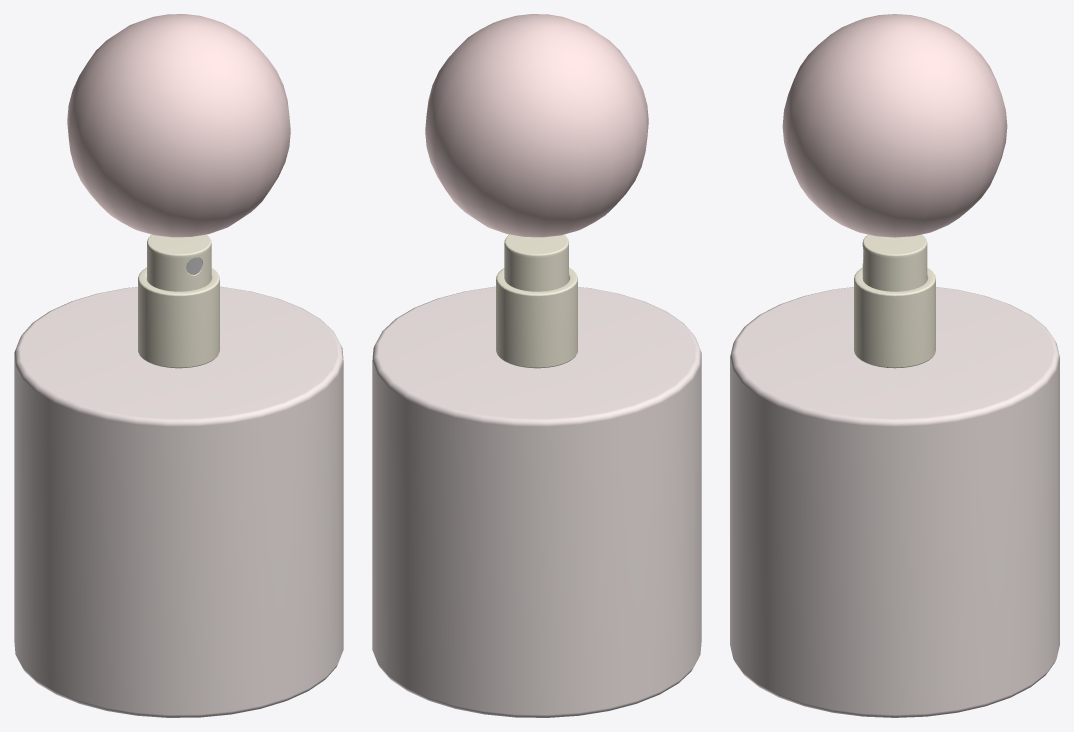
The picture shows the model from 3 angles, left to right: view 1: azimuth 30°, elevation 25°; view 2: azimuth 150°, elevation 25°; view 3: azimuth 270°, elevation 25°; orthographic projection.
Bounding box in the file's own units: 4.45 × 9.34 × 4.45.
